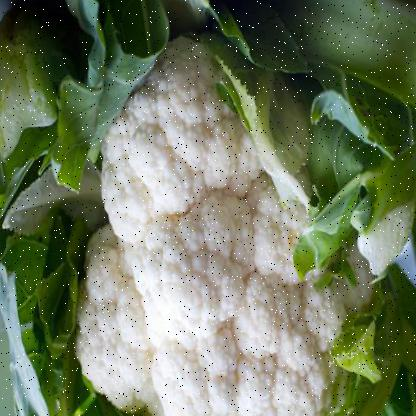cauliflower: (70, 54, 384, 415)
